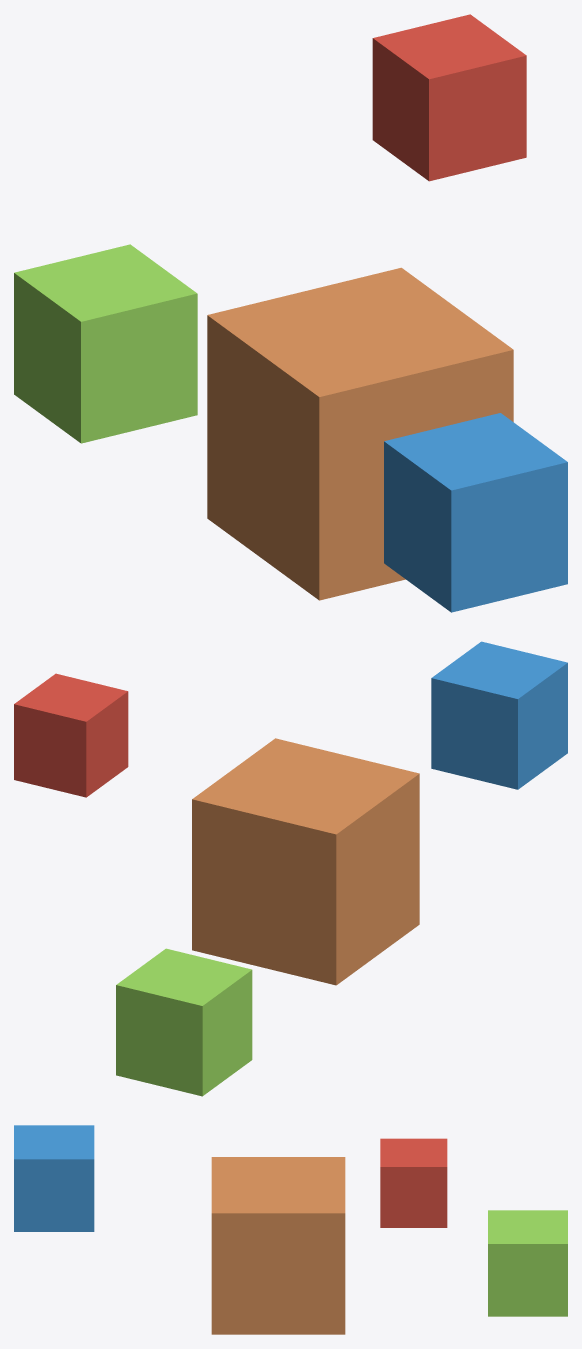
File: modelo0.glb
3 renders of one model, top to bottom at view 1: azimuth 30°, elevation 25°; view 2: azimuth 150°, elevation 25°; view 3: azimuth 270°, elevation 25°, orthographic. The views are drawn at different scales.
Parts seen in each view (by area): view 1: t1, t3, telefono, t2; view 2: t1, t3, telefono, t2; view 3: t1, t3, telefono, t2.
Boxes of the visible parts, x1,y1,x2,y2 form: t1: (207,267,513,600); t3: (384,413,567,612); telefono: (14,244,197,443); t2: (372,14,526,181); t1: (192,738,419,985); t3: (431,641,567,789); telefono: (116,948,252,1096); t2: (14,673,128,797); t1: (211,1157,345,1334); t3: (14,1125,94,1231); telefono: (488,1210,567,1316); t2: (380,1138,447,1227).
Bounding box in the file's own units: 5.39 × 4.95 × 11.34.
